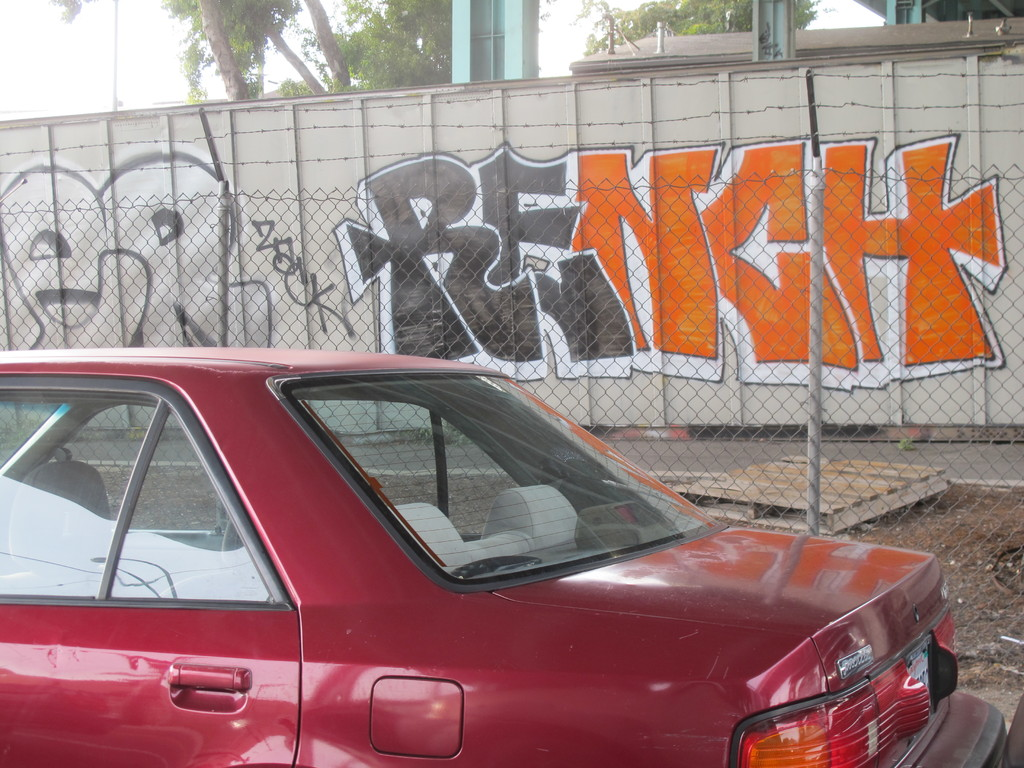Car: (0, 357, 929, 768)
